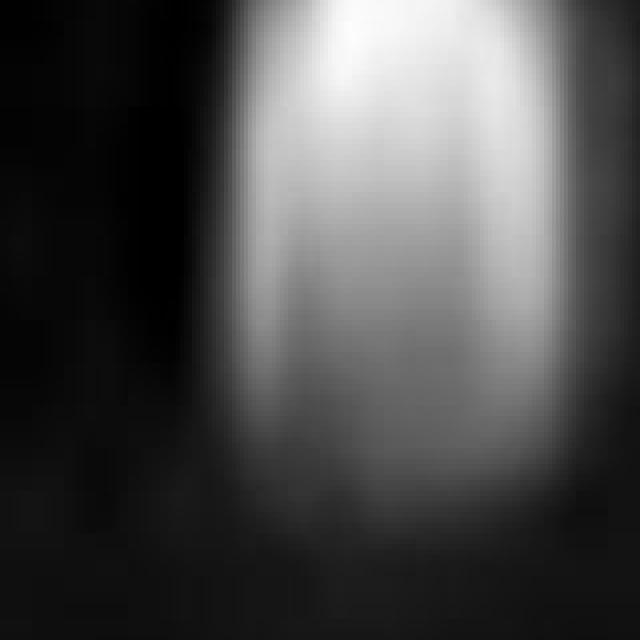person: (209, 1, 585, 540)
